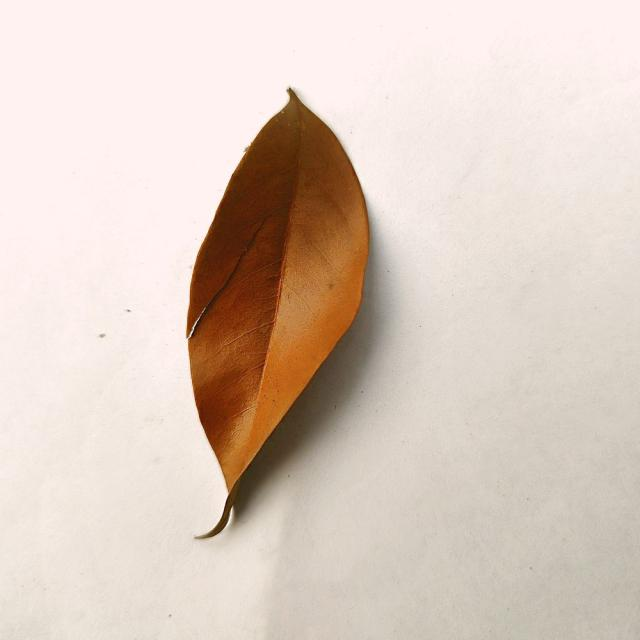Dry_Leaf-Lychee: (186, 90, 371, 539)
